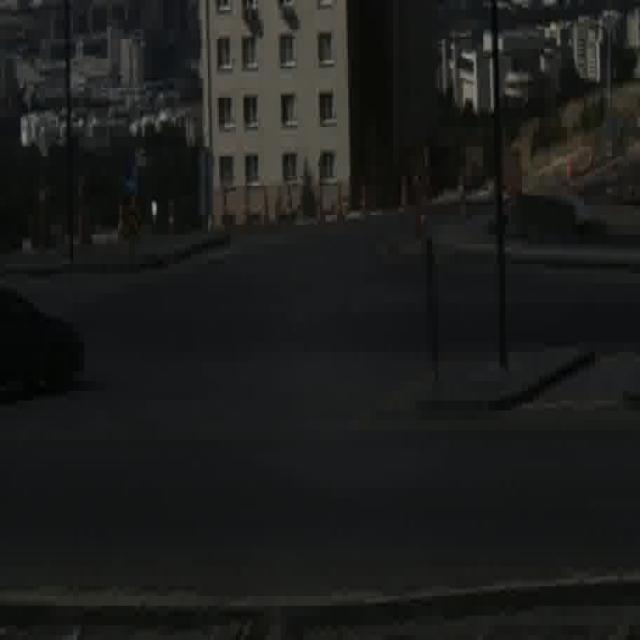Car: (0, 283, 88, 396)
